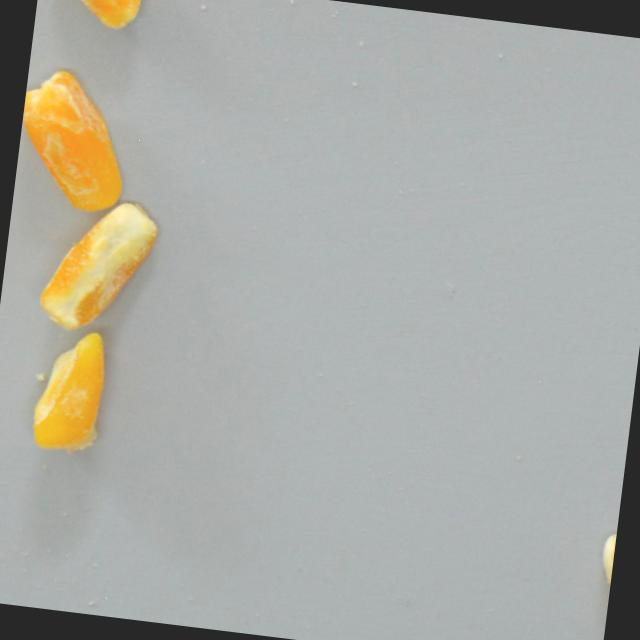dañado: (25, 185, 164, 339), (12, 60, 140, 219), (20, 322, 113, 461), (41, 0, 149, 37), (582, 527, 617, 640)
